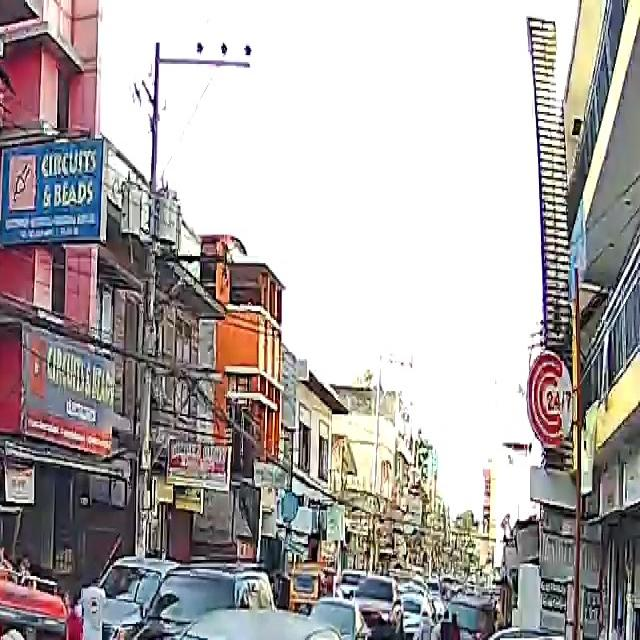car: (120, 563, 275, 640), (79, 602, 358, 640), (337, 574, 406, 639), (303, 597, 374, 640), (474, 633, 626, 640)
